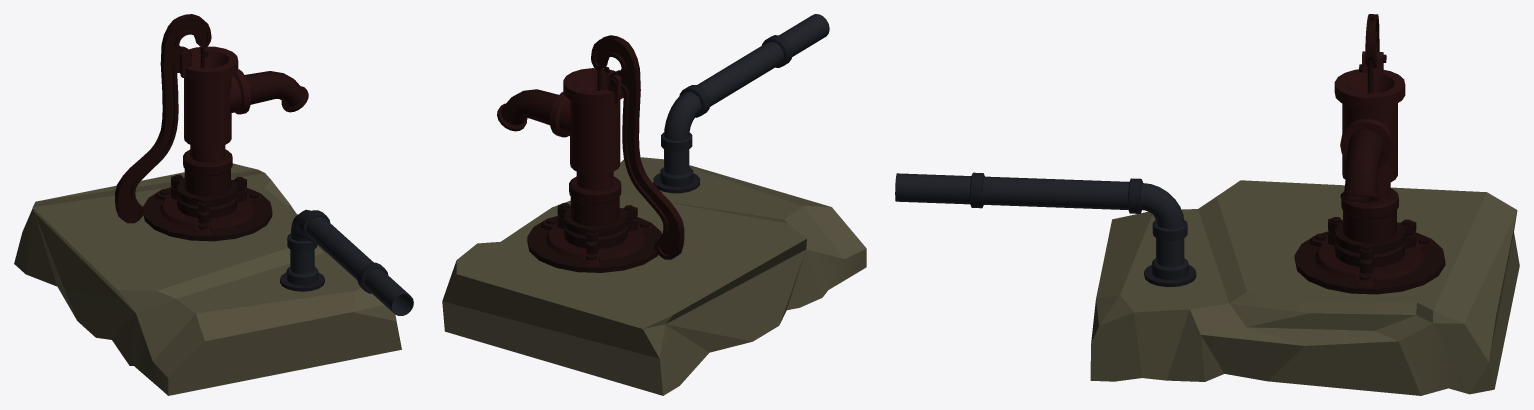
Rendered from stage5 pump.fbx.
3 renders of one model, left to right at view 1: azimuth 30°, elevation 25°; view 2: azimuth 150°, elevation 25°; view 3: azimuth 270°, elevation 25°, orthographic. The views are drawn at different scales.
Parts seen in each view (by area): view 1: pump; view 2: pump; view 3: pump.
Part boxes in pixels (left/top/right/bottom): pump: left=14, top=14, right=413, bottom=395; pump: left=442, top=14, right=866, bottom=395; pump: left=895, top=14, right=1519, bottom=395.
Bounding box in the file's own units: 130 × 133 × 242.
